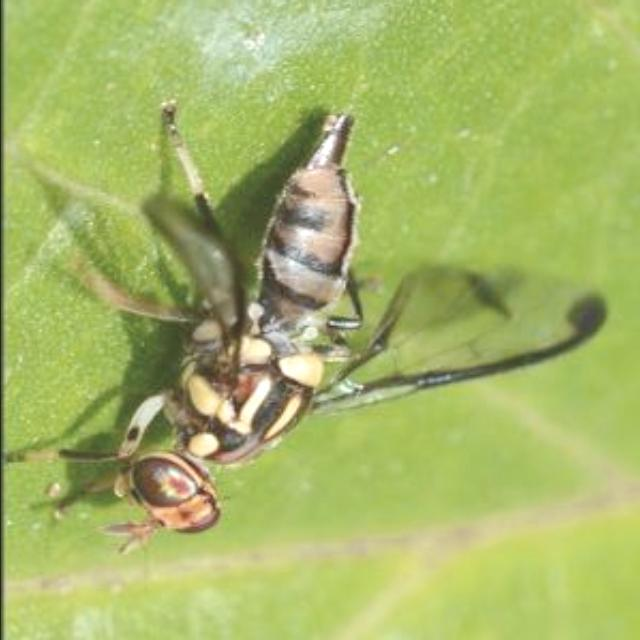melon fly: (28, 109, 606, 597)
